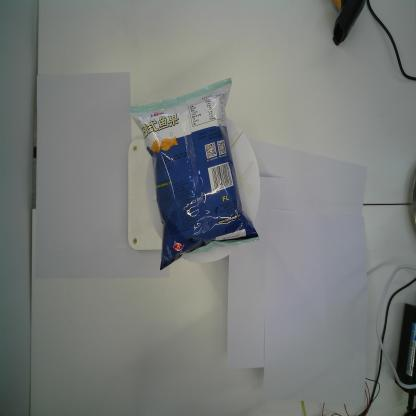Puffed Food: (128, 75, 260, 271)
